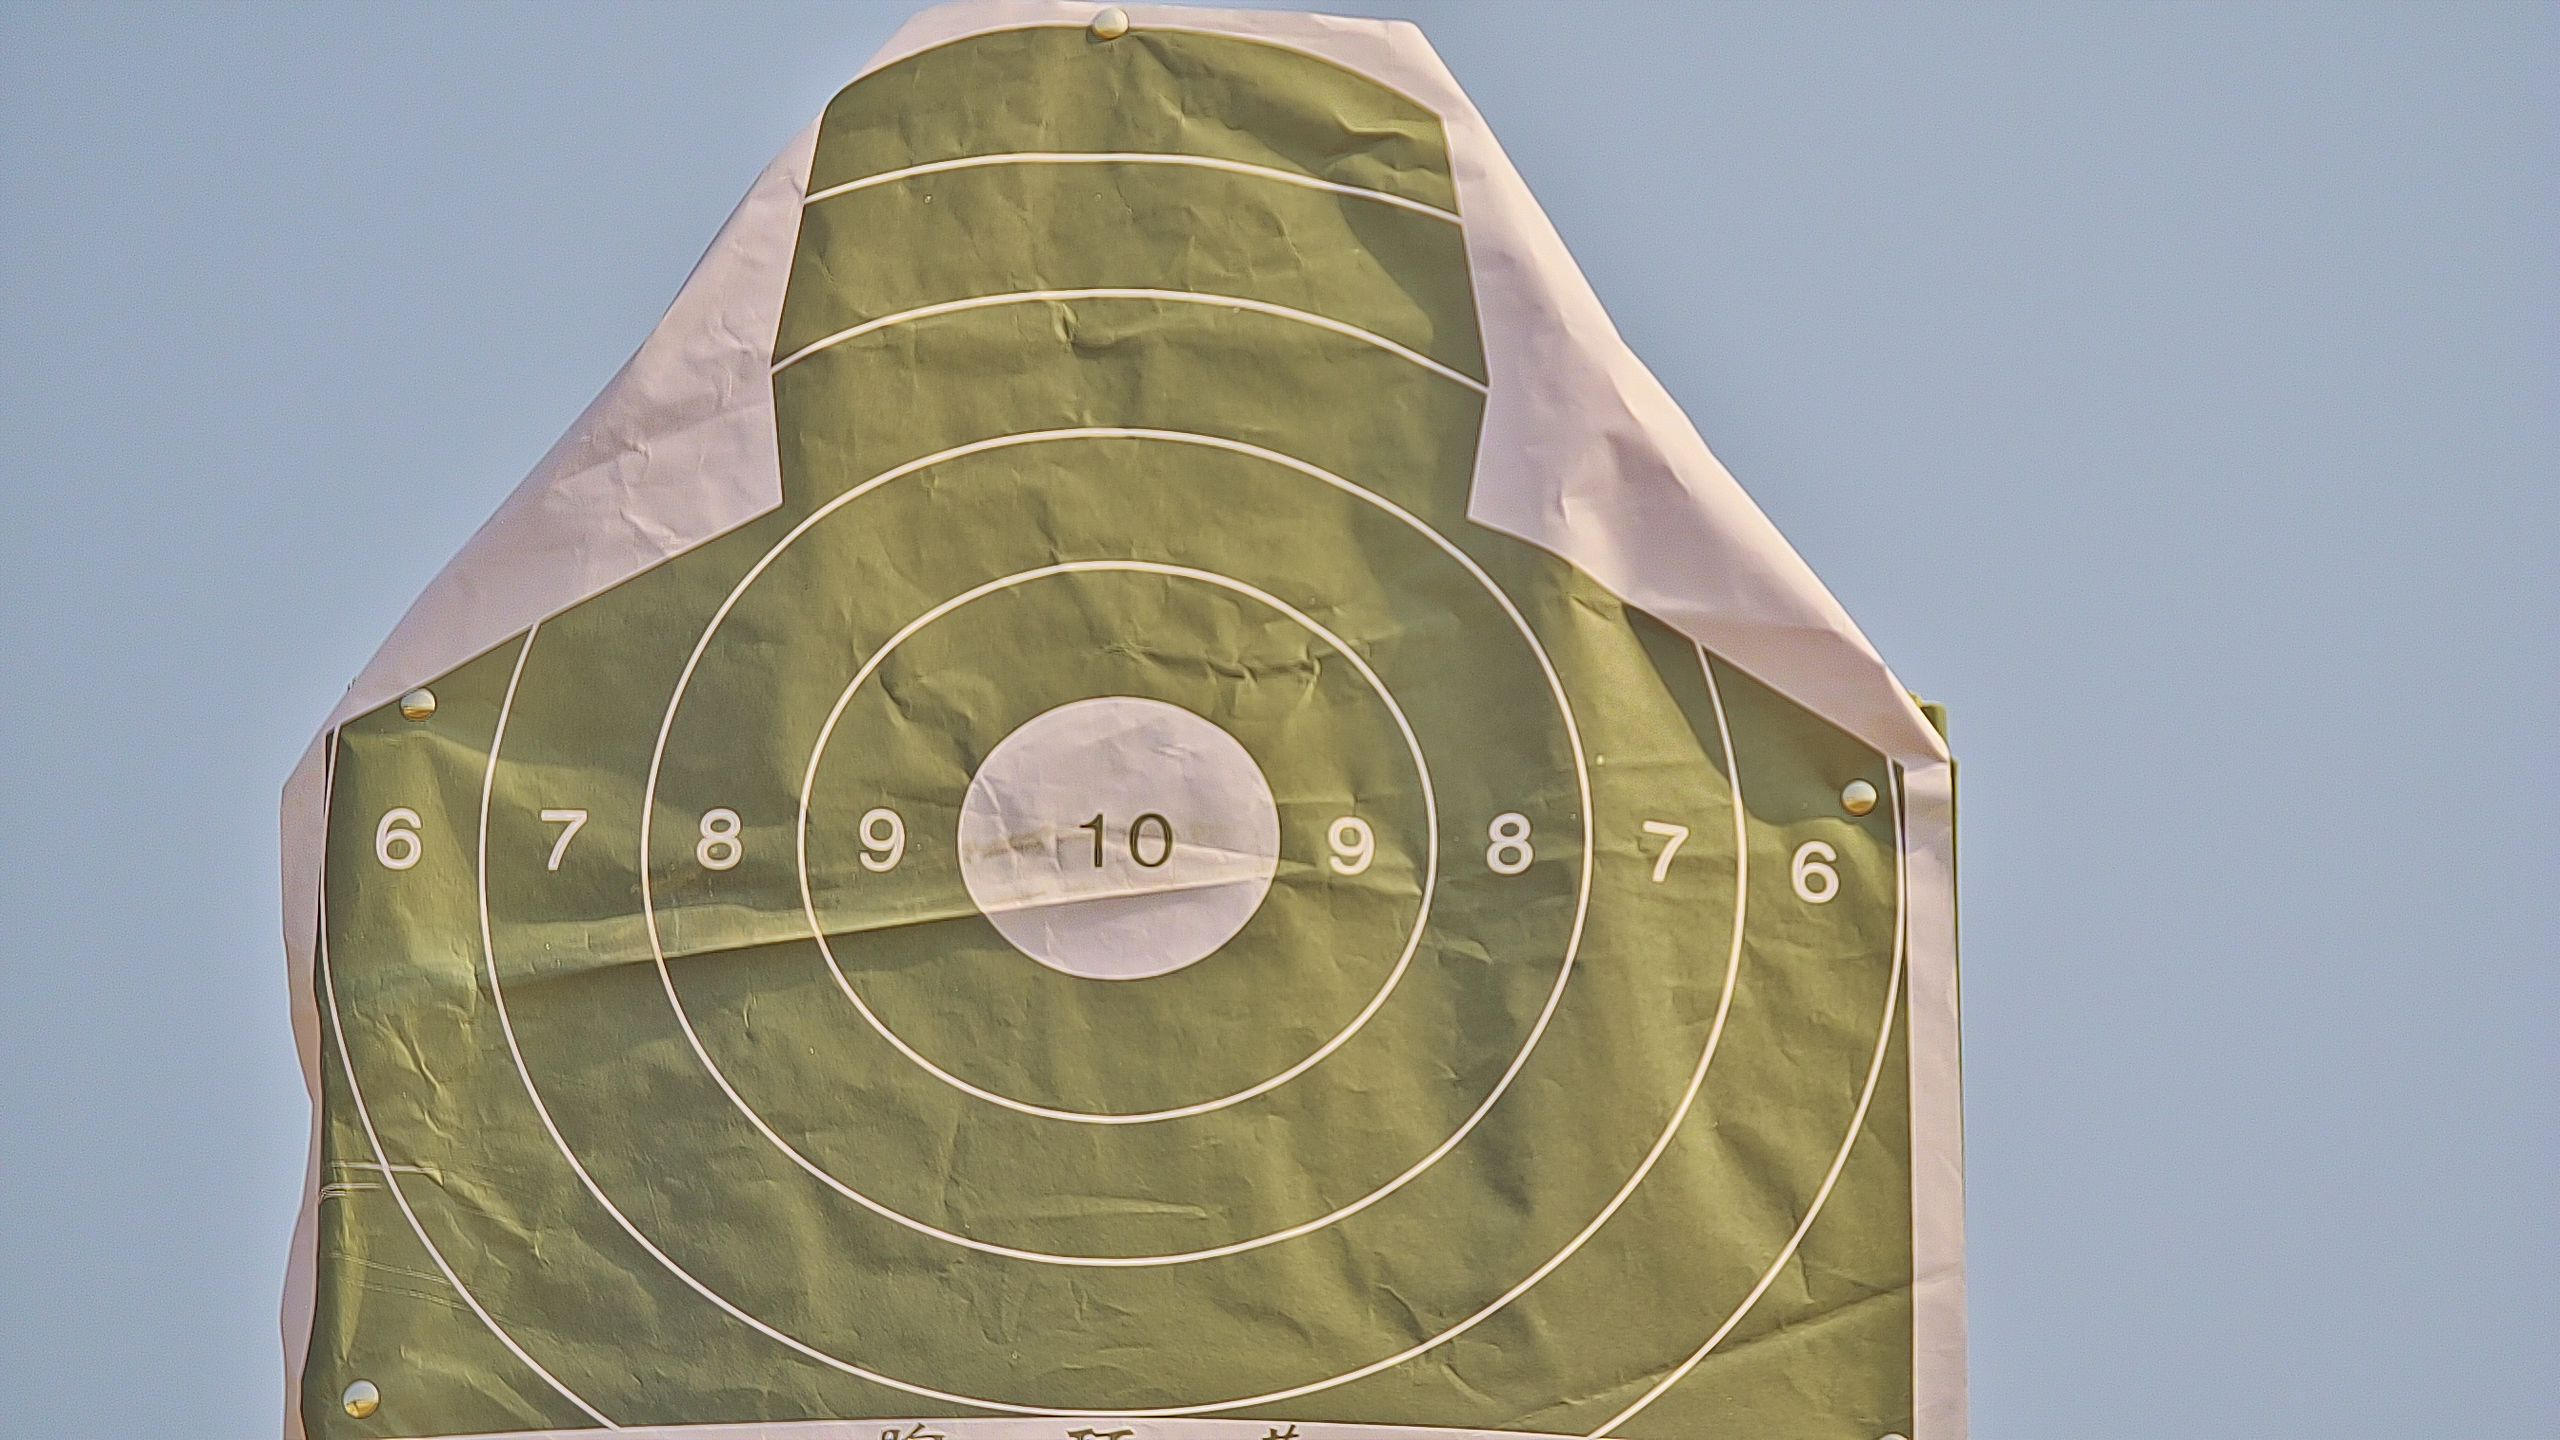kernel: (1115, 840, 1116, 844)
target: (316, 23, 1922, 1440)
ten: (958, 693, 1282, 983)
